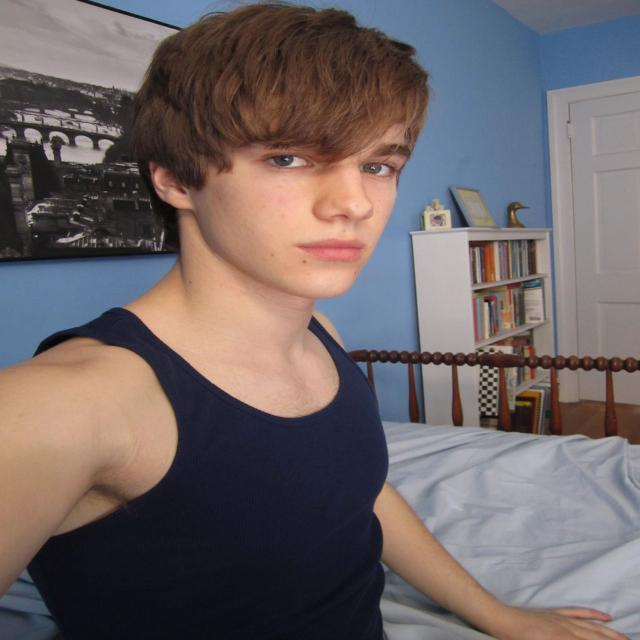front: (240, 107, 415, 272)
